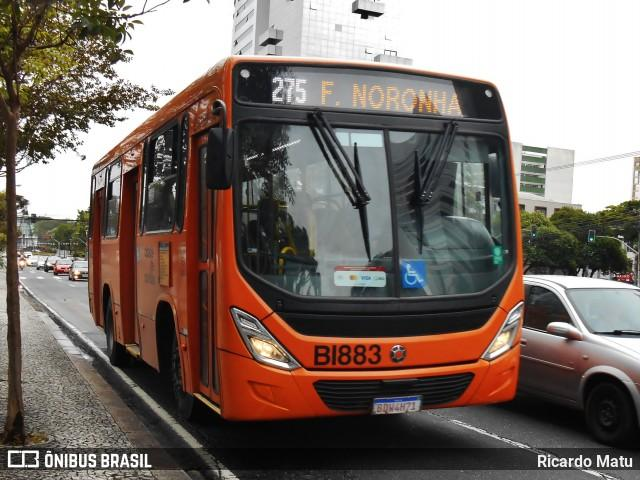F. NORONHA: (315, 76, 465, 119)
